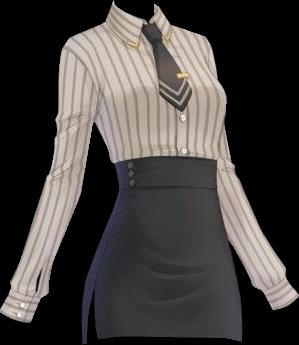Bodice: (63, 0, 226, 164)
Hemline: (82, 291, 243, 344)
Neckline: (112, 0, 157, 26)
Skirt: (82, 156, 241, 343)
Sleeve: (0, 46, 96, 322)
Sleeveline: (63, 44, 99, 123), (10, 287, 42, 299)
Waistline: (114, 155, 216, 167), (117, 184, 216, 192)
